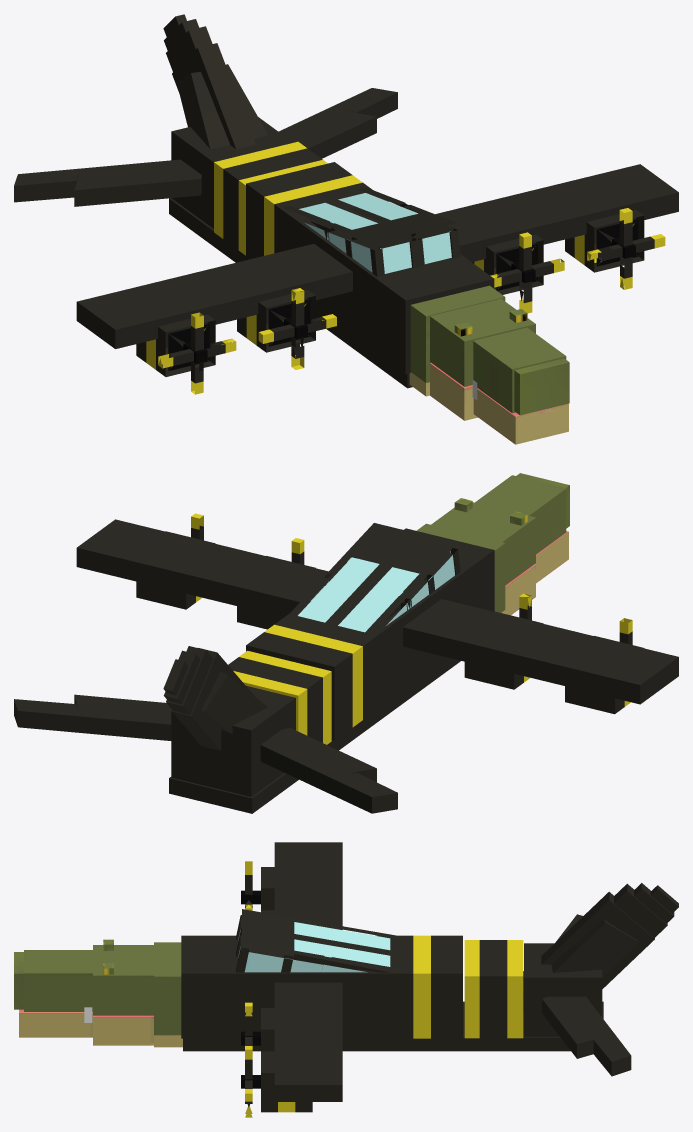
Rendered from bombardiro.fbx.
3 renders of one model, top to bottom at view 1: azimuth 30°, elevation 25°; view 2: azimuth 150°, elevation 25°; view 3: azimuth 270°, elevation 25°, orthographic. The views are drawn at different scales.
Visible parts, largest first — view 1: Bombardiro; view 2: Bombardiro; view 3: Bombardiro.
Part boxes in pixels (<box>): Bombardiro: <box>14,14,678,444</box>; Bombardiro: <box>14,473,678,813</box>; Bombardiro: <box>14,842,678,1117</box>.
Bounding box in the file's own units: 1039 × 295 × 1204.
4 materials, 1 textured.
